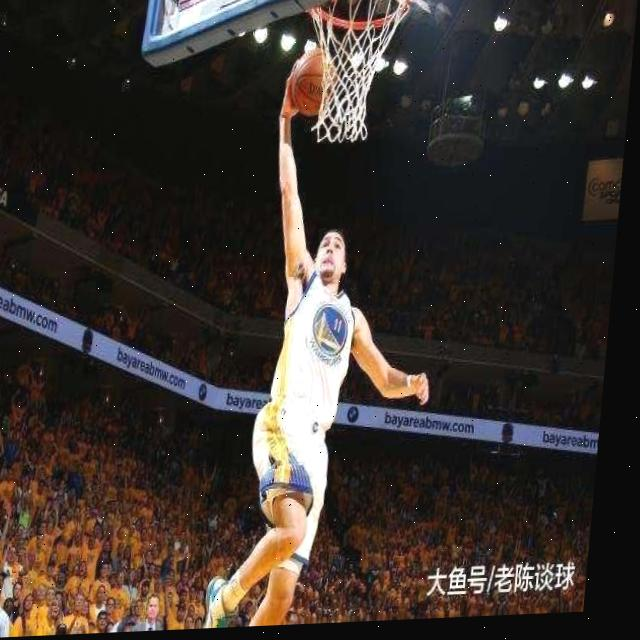basketball: (287, 47, 336, 116)
hoop: (295, 0, 419, 146)
